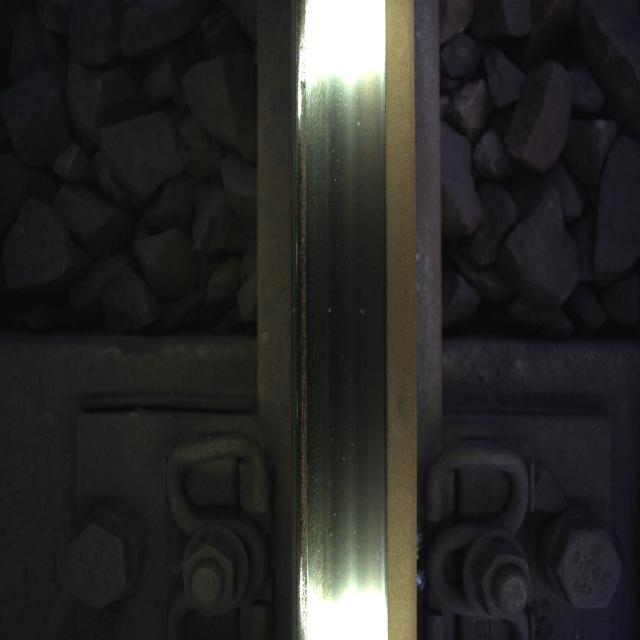normal: (305, 49, 380, 600)
